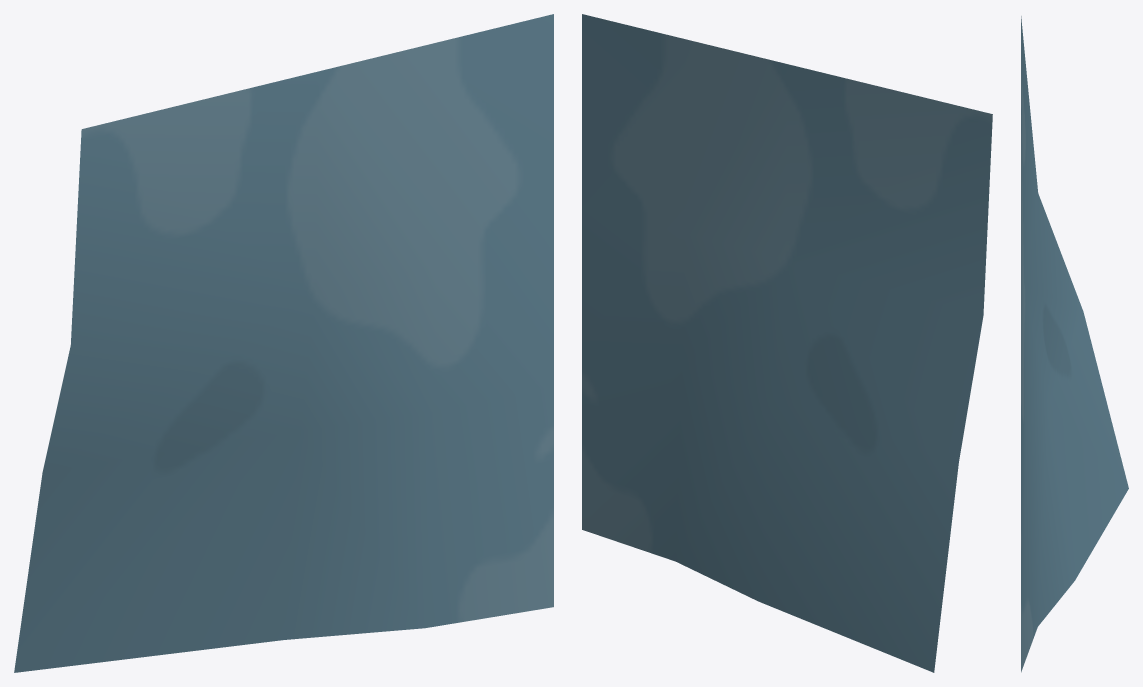
Rendered from Props_Poster_01.fbx.
The picture shows the model from 3 angles, left to right: view 1: azimuth 30°, elevation 25°; view 2: azimuth 150°, elevation 25°; view 3: azimuth 270°, elevation 25°; orthographic projection. The views are drawn at different scales.
Visible parts, largest first — view 1: Props_Poster_01; view 2: Props_Poster_01; view 3: Props_Poster_01.
Part boxes in pixels (box(x1,y1,x2,y2)): Props_Poster_01: box(14, 14, 553, 672); Props_Poster_01: box(582, 14, 992, 672); Props_Poster_01: box(1021, 16, 1128, 672).
Bounding box in the file's own units: 100 × 120 × 24.75.
